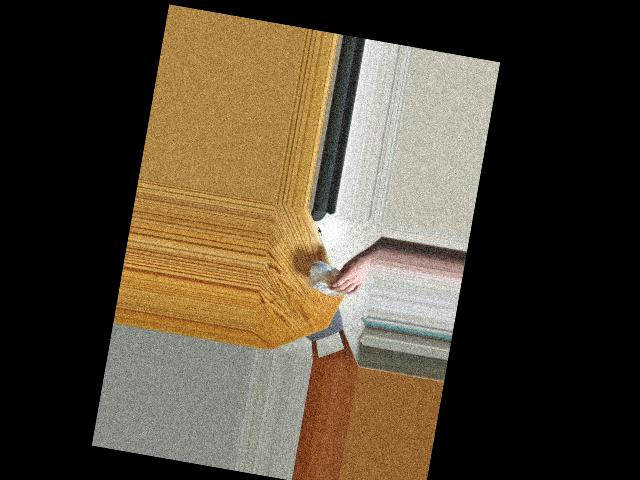cheese: (318, 260, 361, 299)
